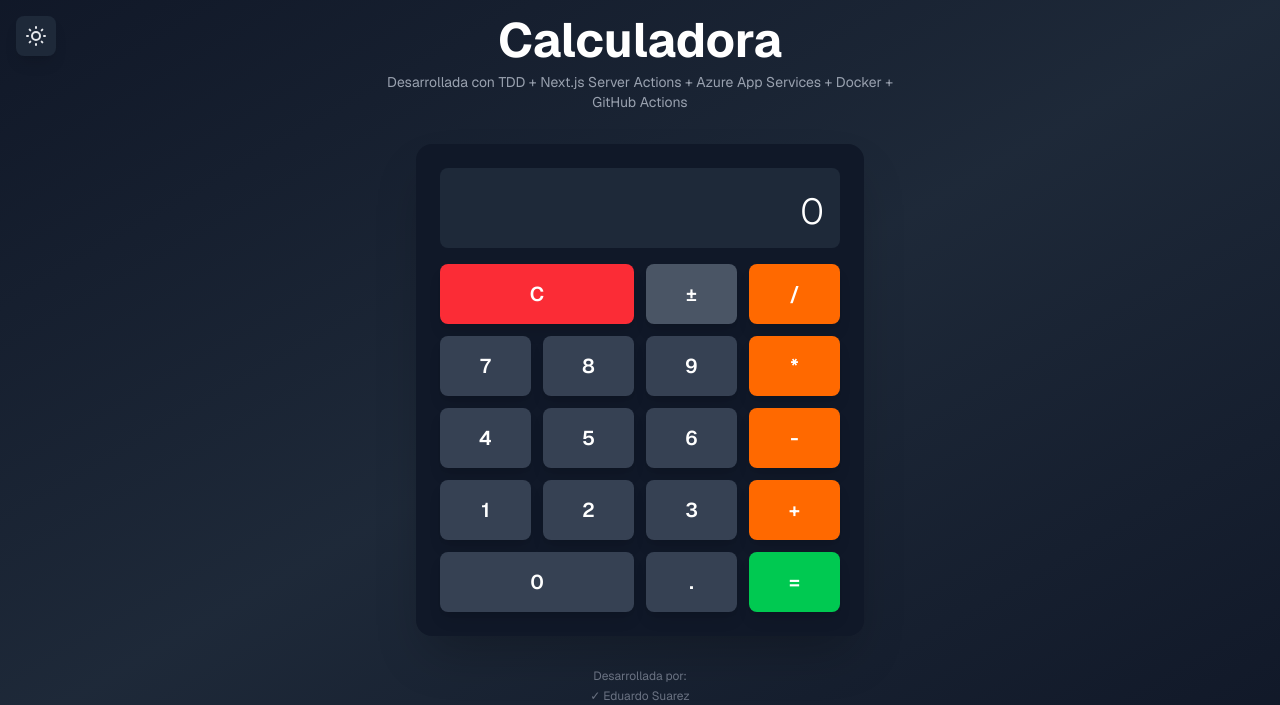
Test: Calculadora - Pruebas de Integración › Operaciones Básicas › debe realizar una multiplicación correctamente
This screenshot has width=1280, height=705.
Expected: the heading "Calculadora" is shown, left=498, top=9, right=782, bottom=71
Click the button "6".
click(692, 438)  # box left=646, top=408, right=737, bottom=468
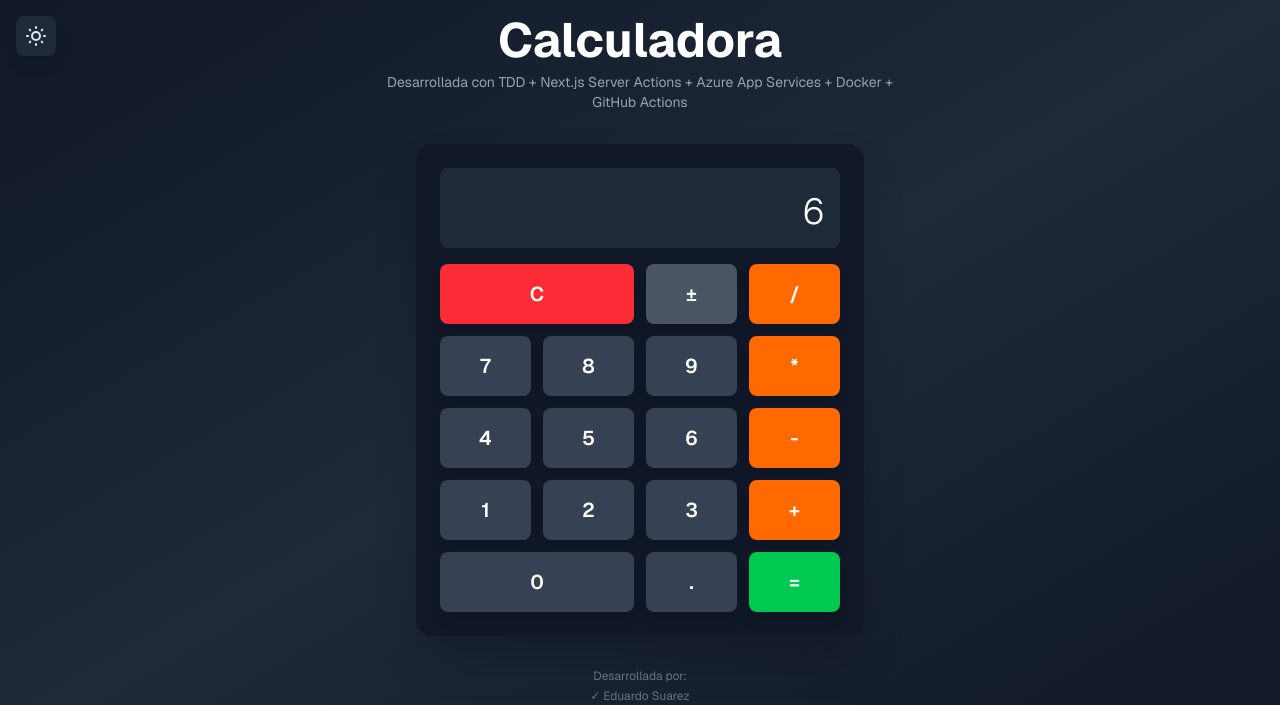
Expected: the text "6" is shown, left=803, top=188, right=824, bottom=235
Click the button "*".
click(795, 366)  # box left=749, top=336, right=840, bottom=396
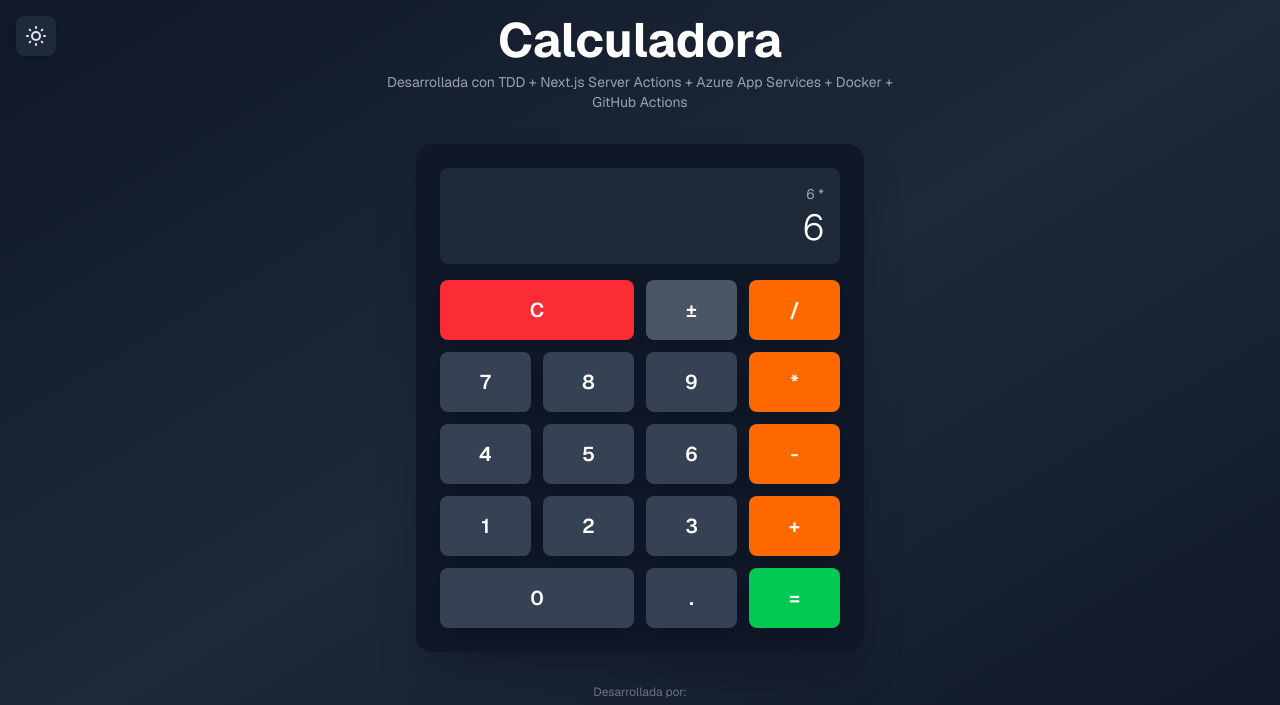
Click the button "7".
click(486, 382)  # box left=440, top=352, right=531, bottom=412
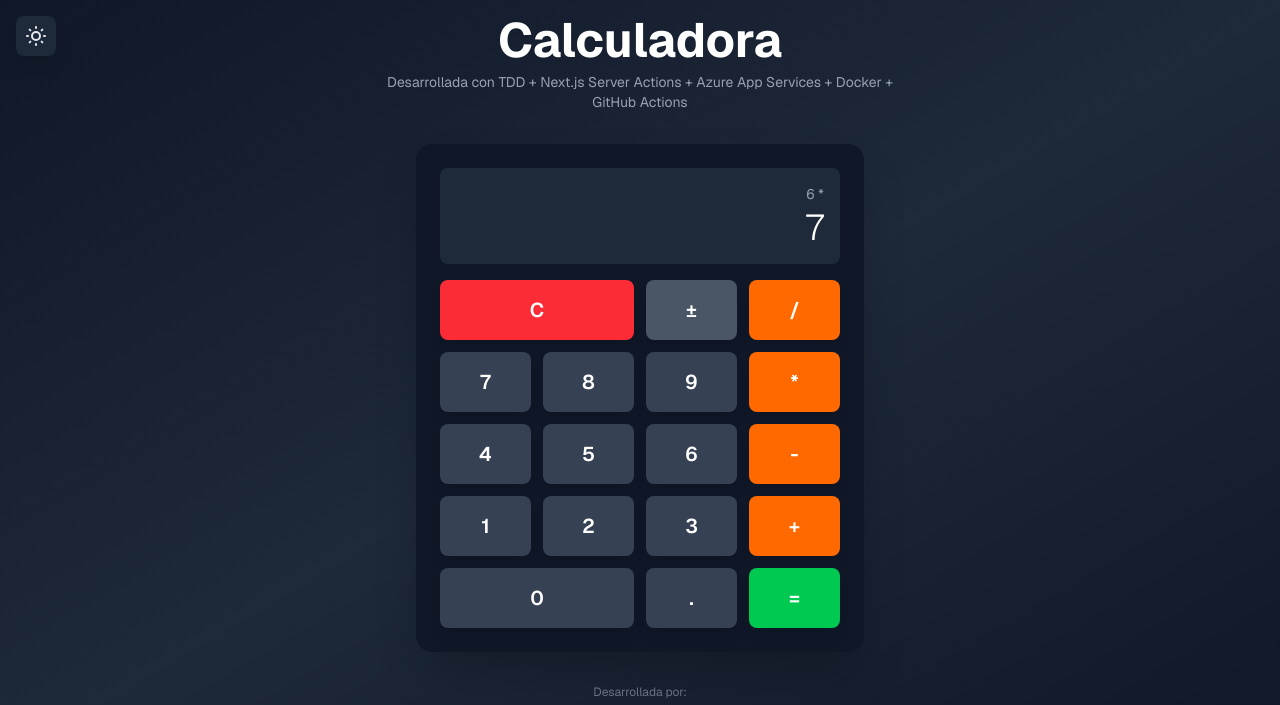
Expected: the text "7" is shown, left=806, top=204, right=824, bottom=251
Click the button "=".
click(795, 598)  # box left=749, top=568, right=840, bottom=628
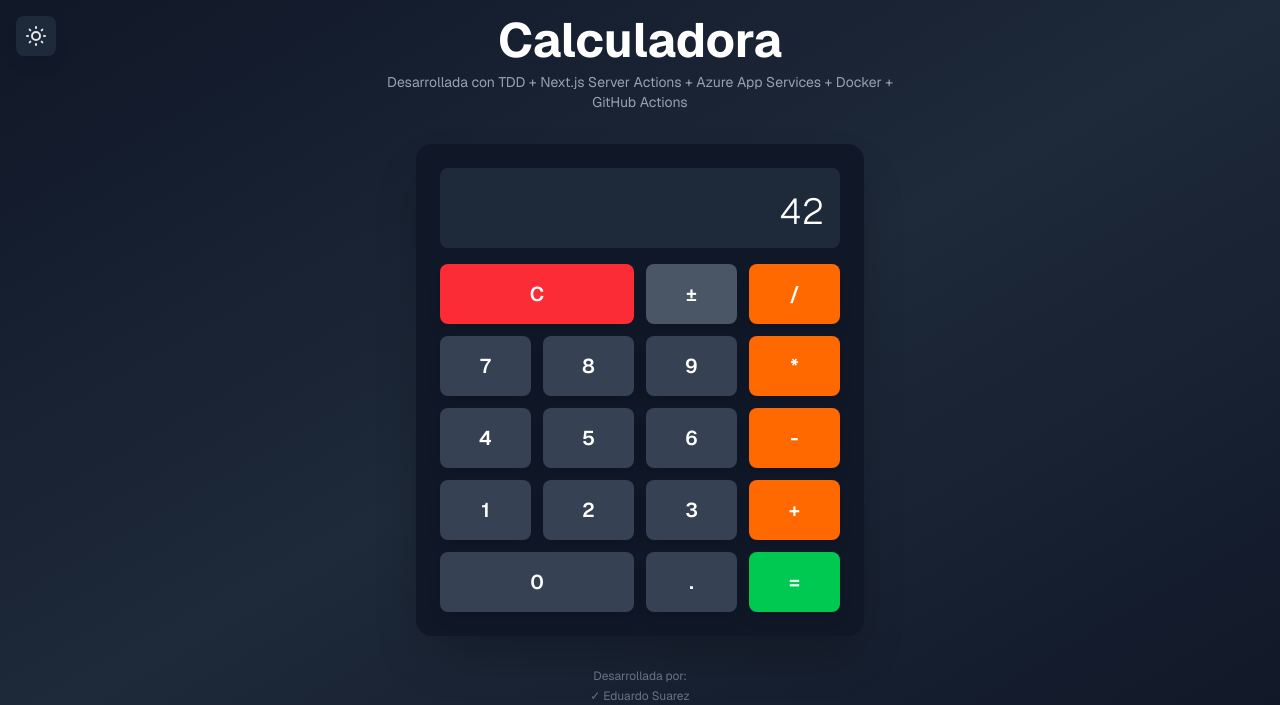
Expected: the text "42" is shown, left=780, top=188, right=824, bottom=235
